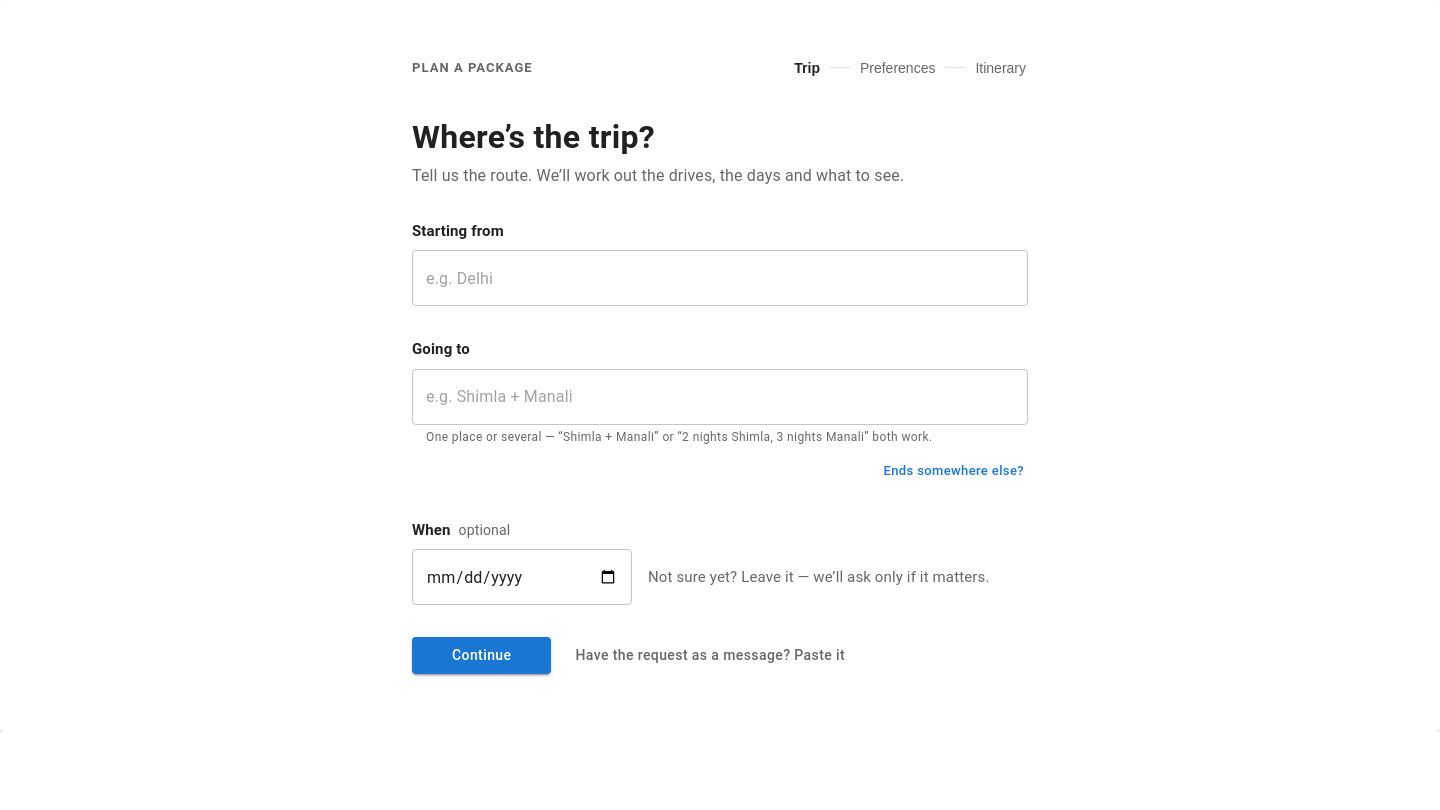
Test: Package planner — the simple flow › the destination box understands “2 nights Shimla, 3 nights Manali”; nights are a simple stepper
The image size is (1440, 810).
Step 1. Type "2 nights Shimla, 3 nights Manali" into the field named "Going to" → (720, 397), box [412,369,1028,425]
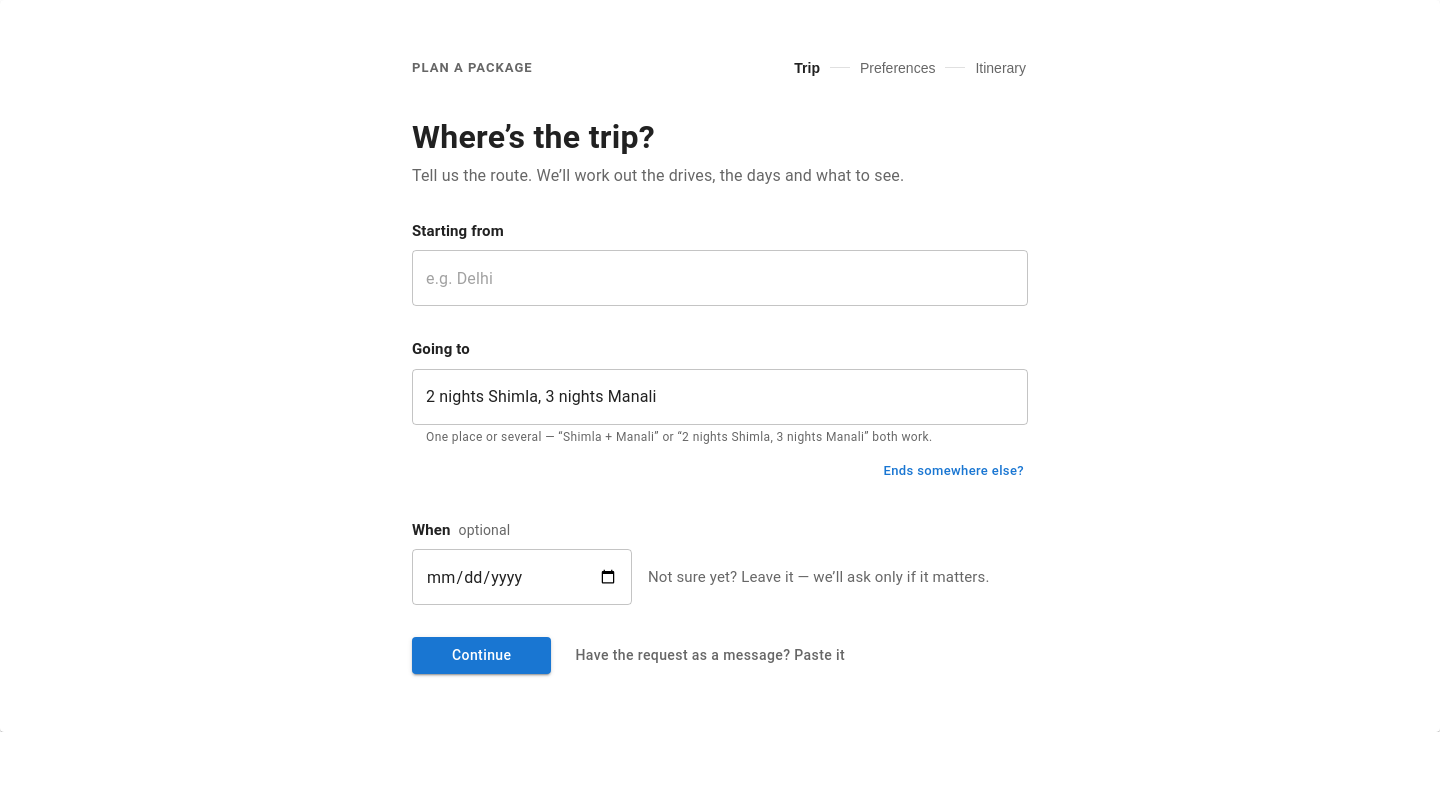
Step 2. Press Enter in the field named "Going to", box [412,369,1028,425]
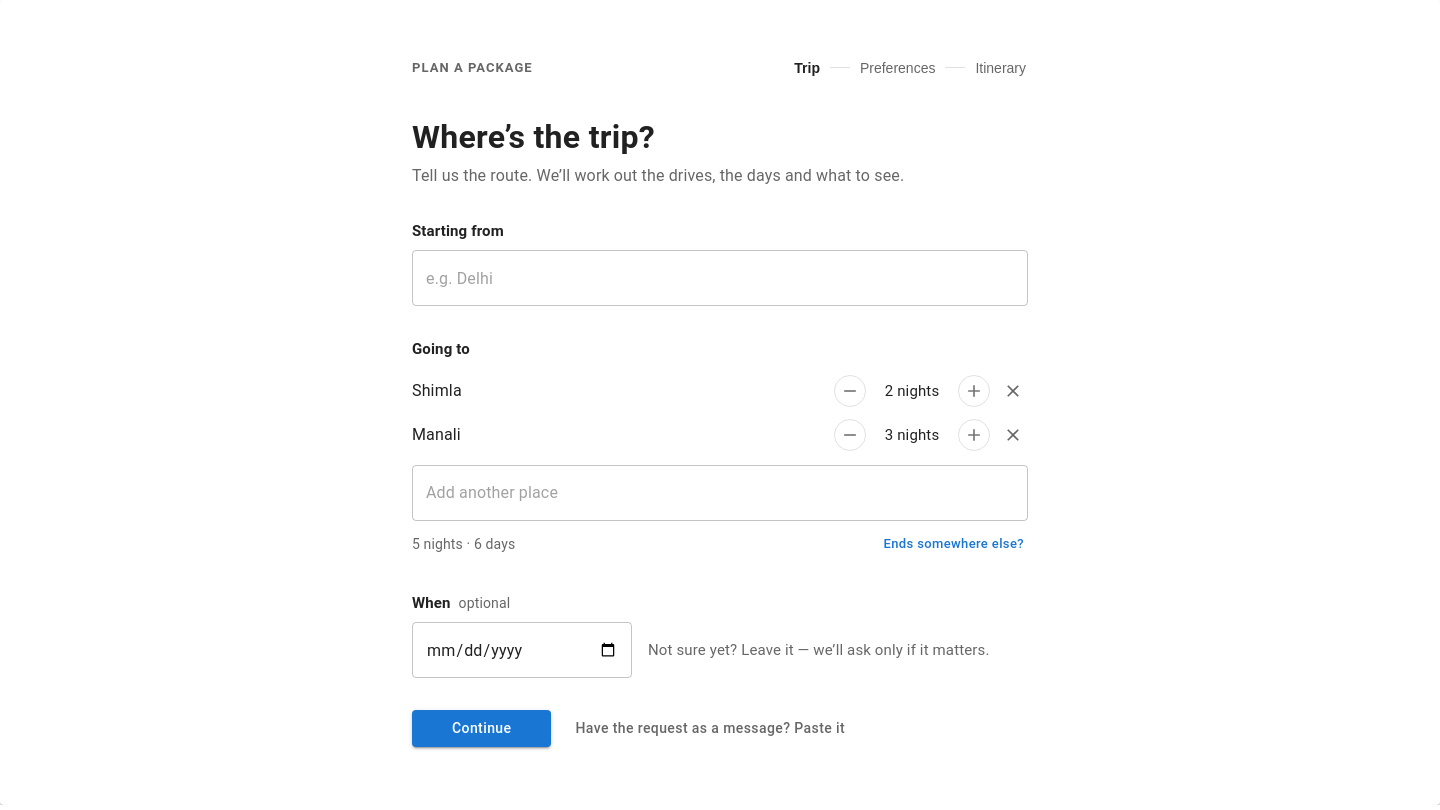
expect the text "Shimla" is shown: met, box [412,381,462,400]
expect the text "5 nights · 6 days" is shown: met, box [412,534,515,555]
Step 3. Click the button named "One more night in Manali" → click(974, 435), box [958,419,990,451]
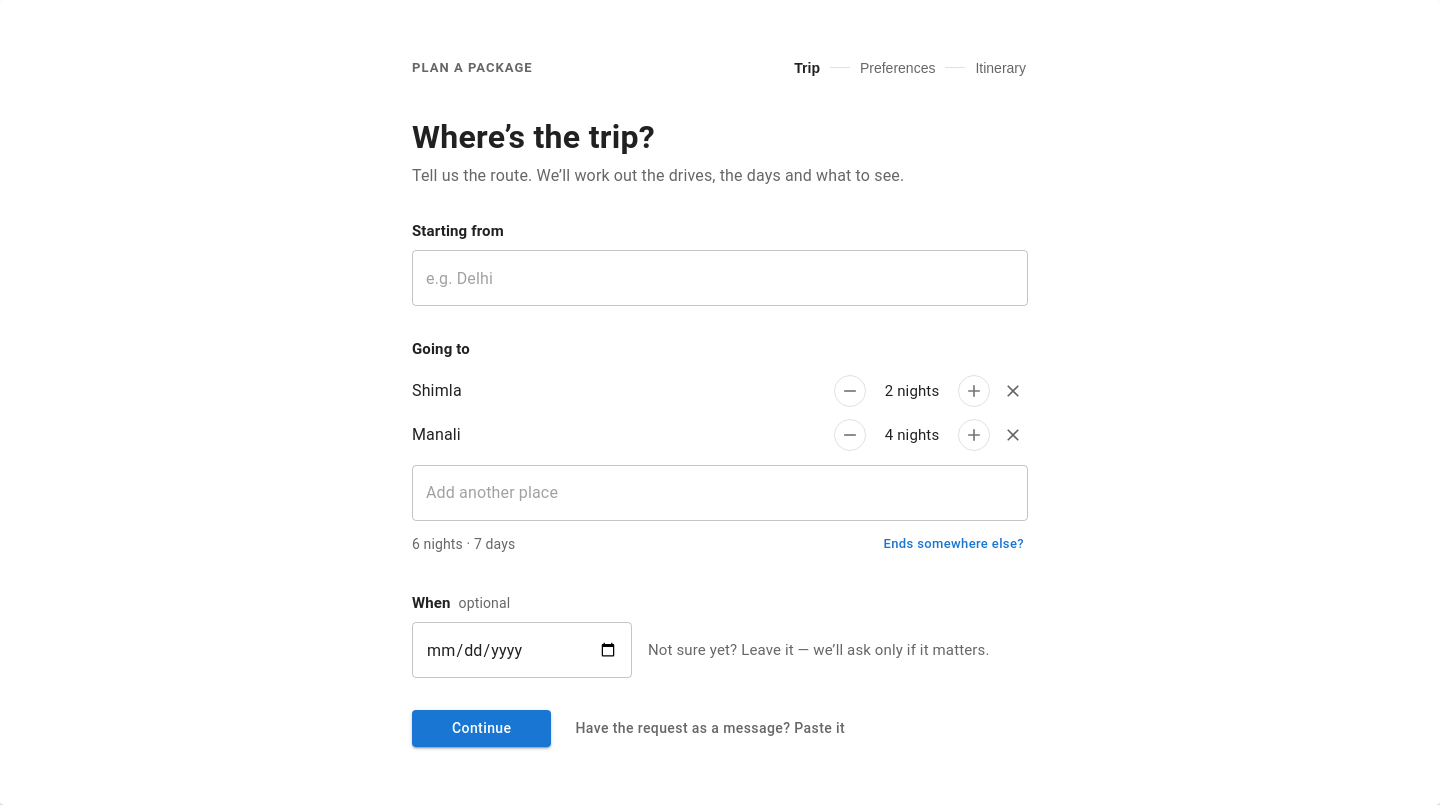
expect the text "6 nights · 7 days" is shown: met, box [412,534,515,555]
